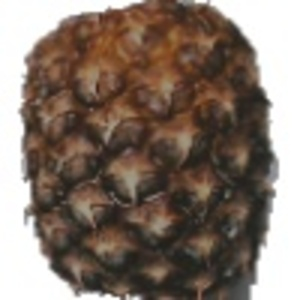abacaxi: (14, 3, 280, 295)
